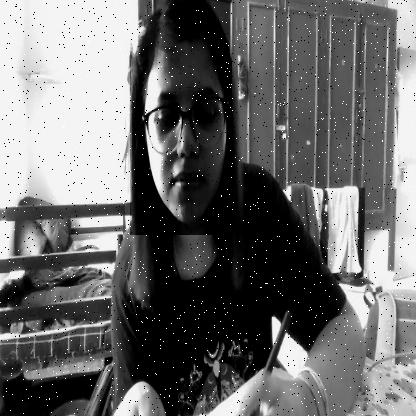Normal: (130, 0, 232, 235)
